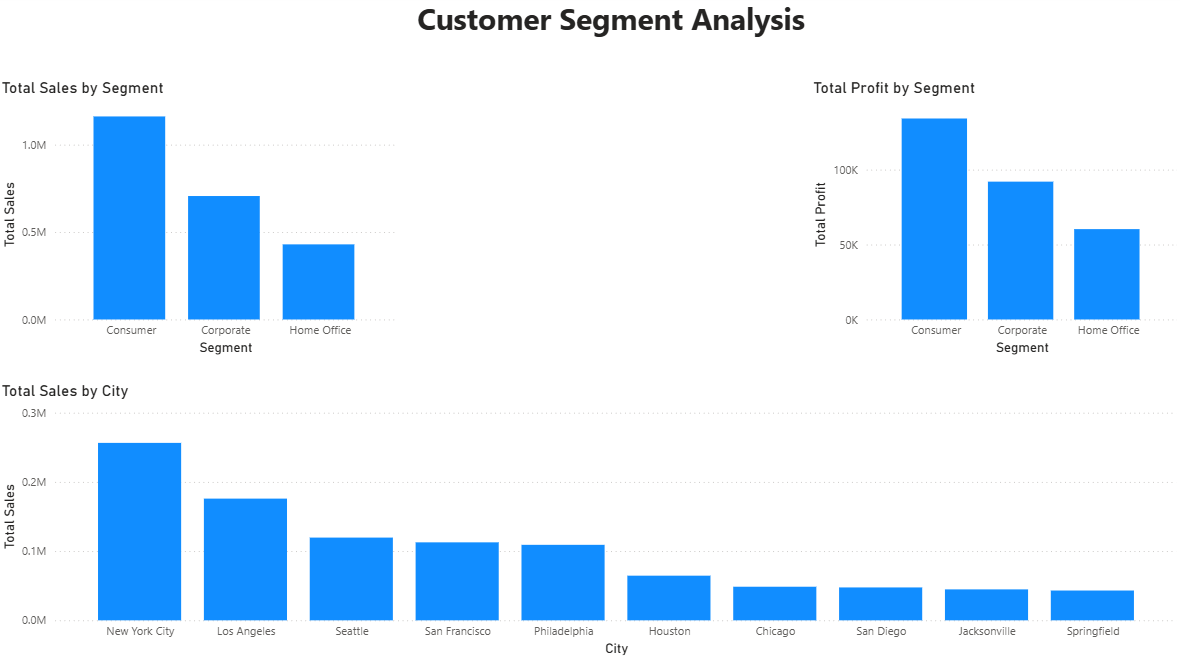

The page's visual inventory and layout, read from the dashboard file:
{"tool":"powerbi","page":{"name":"Page 4","canvas":[1280,720],"ordinal":3},"visuals":[{"type":"textbox","box":[448.5,0,523,56.7],"z":0},{"type":"clusteredColumnChart","fields":{"Category":["SampleSuperstore.City"],"Y":["SampleSuperstore.Total Sales"]},"box":[0,419.5,1279.4,300.5],"z":1000},{"type":"clusteredColumnChart","fields":{"Category":["SampleSuperstore.Segment"],"Y":["SampleSuperstore.Total Sales"]},"box":[0,92.3,435.6,302.8],"z":2000},{"type":"clusteredColumnChart","fields":{"Category":["SampleSuperstore.Segment"],"Y":["SampleSuperstore.Total Profit"]},"box":[876,92.3,403.2,302.8],"z":3000}]}

Visuals, with their boxes in screenshot pixels (x1, y1, x2, y2), scaled from the page's 1280x720 canvas onto the 1180x660 screenshot:
textbox: <region>413, 0, 896, 52</region>
clusteredColumnChart - SampleSuperstore.City x SampleSuperstore.Total Sales: <region>0, 385, 1179, 659</region>
clusteredColumnChart - SampleSuperstore.Segment x SampleSuperstore.Total Sales: <region>0, 85, 402, 362</region>
clusteredColumnChart - SampleSuperstore.Segment x SampleSuperstore.Total Profit: <region>808, 85, 1179, 362</region>
